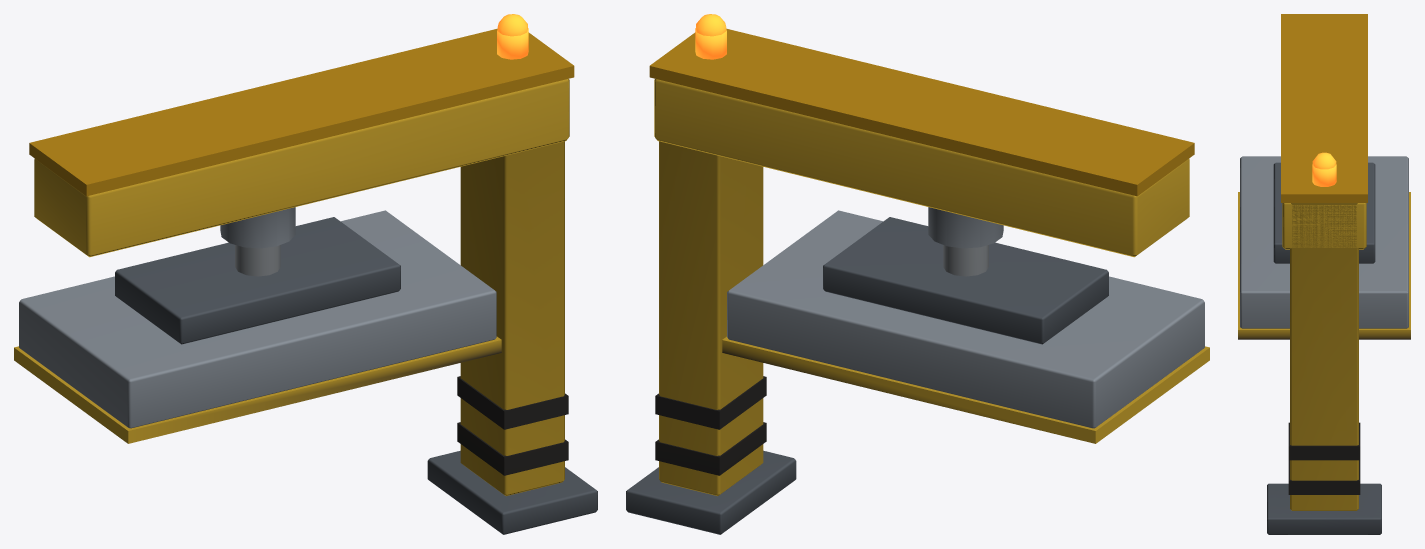
File: prop.honey_press.lod1.glb
3 renders of one model, left to right at view 1: azimuth 30°, elevation 25°; view 2: azimuth 150°, elevation 25°; view 3: azimuth 270°, elevation 25°, orthographic. The views are drawn at different scales.
Visible parts, largest first — view 1: honey_press, head, lamp; view 2: honey_press, head, lamp; view 3: honey_press, head, lamp.
Part boxes in pixels (left/top/right/bottom): honey_press: left=29, top=28, right=597, bottom=534; head: left=14, top=210, right=501, bottom=443; lamp: left=497, top=14, right=528, bottom=59; honey_press: left=626, top=28, right=1194, bottom=534; head: left=722, top=210, right=1209, bottom=443; lamp: left=695, top=14, right=726, bottom=59; honey_press: left=1267, top=14, right=1381, bottom=534; head: left=1238, top=156, right=1410, bottom=339; lamp: left=1312, top=152, right=1336, bottom=186.
Bounding box in the file's own units: 11.45 × 10.47 × 4.5.
